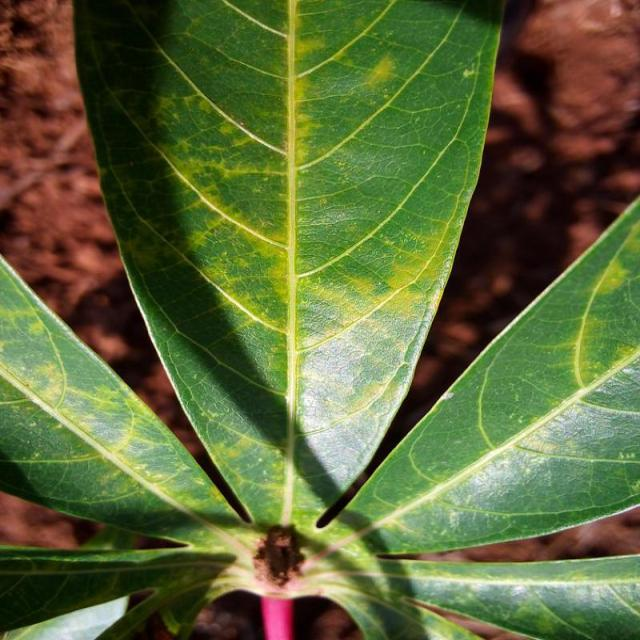cassava leaf: (70, 0, 505, 533), (326, 192, 639, 557)
